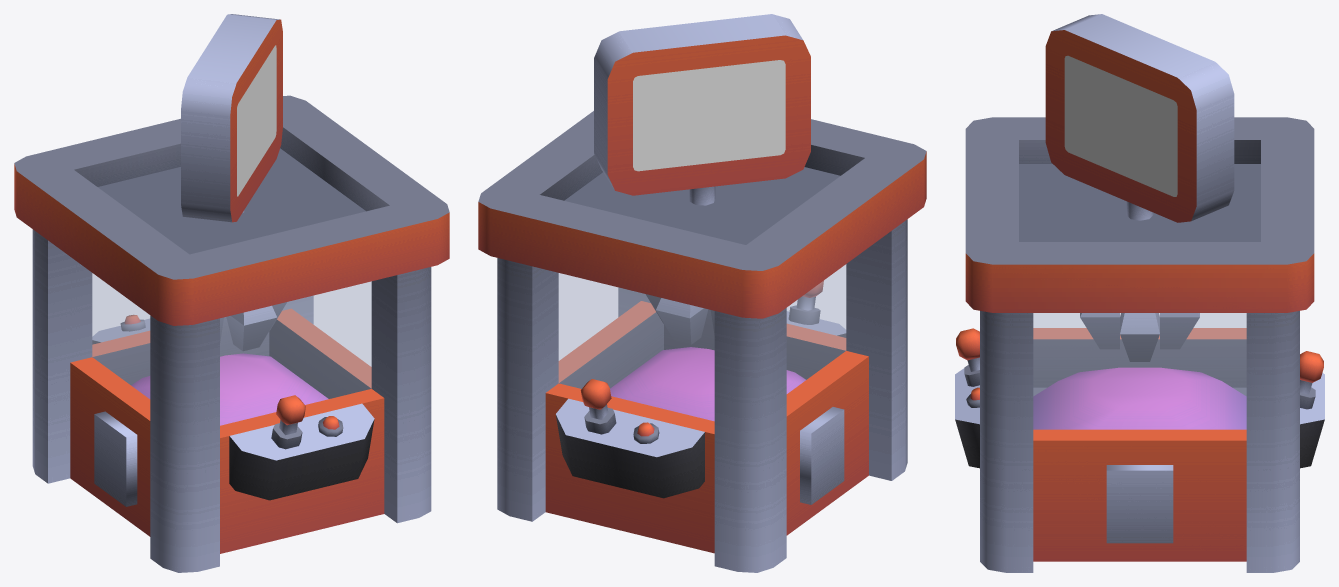
The model's file is claw-machine.glb.
3 renders of one model, left to right at view 1: azimuth 30°, elevation 25°; view 2: azimuth 150°, elevation 25°; view 3: azimuth 270°, elevation 25°, orthographic. The views are drawn at different scales.
Parts seen in each view (by area): view 1: claw-machine, (%ignore), rotate-y; view 2: claw-machine, rotate-y, (%ignore); view 3: claw-machine, rotate-y, (%ignore).
Boxes of the visible parts, box(x1,y1,x2,y2) form: claw-machine: box(14, 95, 449, 572); (%ignore): box(92, 273, 371, 425); rotate-y: box(181, 14, 282, 222); claw-machine: box(478, 111, 926, 572); rotate-y: box(594, 14, 810, 195); (%ignore): box(558, 264, 846, 420); claw-machine: box(955, 117, 1324, 572); rotate-y: box(1045, 14, 1234, 222); (%ignore): box(1033, 313, 1246, 429).
Size of the model in its own units: 0.653 by 0.95 by 0.6932.
2 materials, 1 textured.
